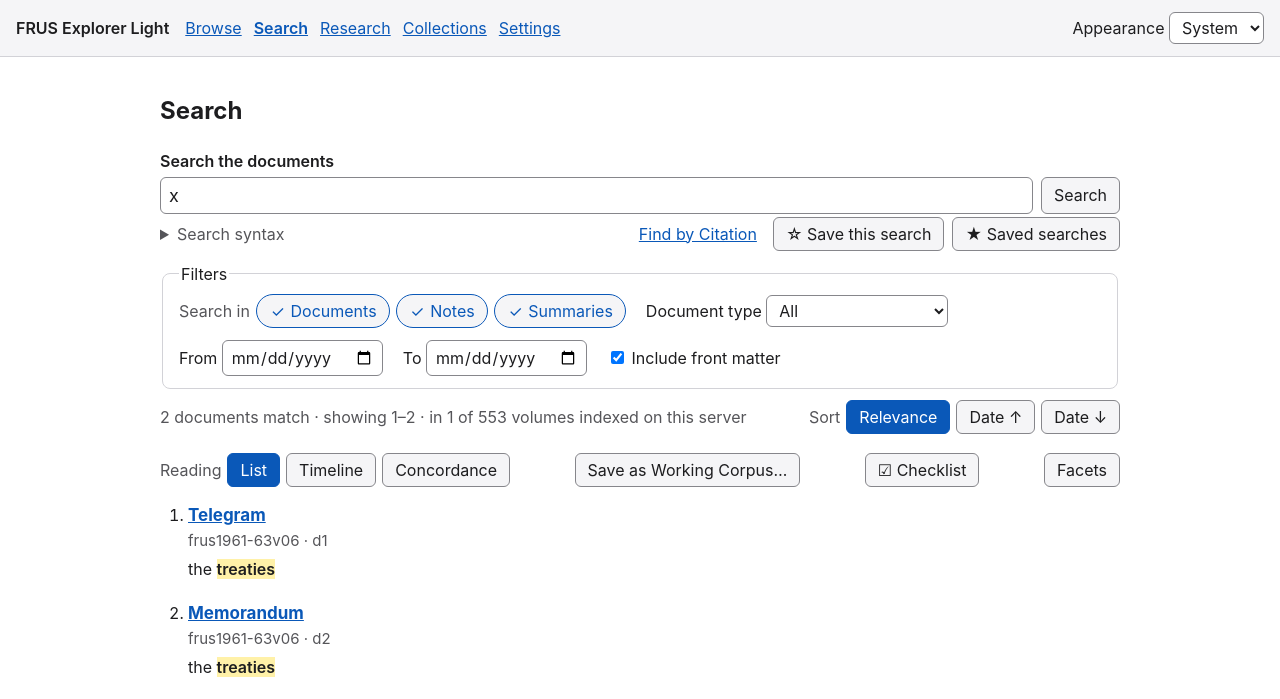
saved searches in Search › renames a saved search as given, and deletes one, from its row
Click the button "★ Saved searches" at (1036,234), box x1=952 y1=217 x2=1120 y2=251
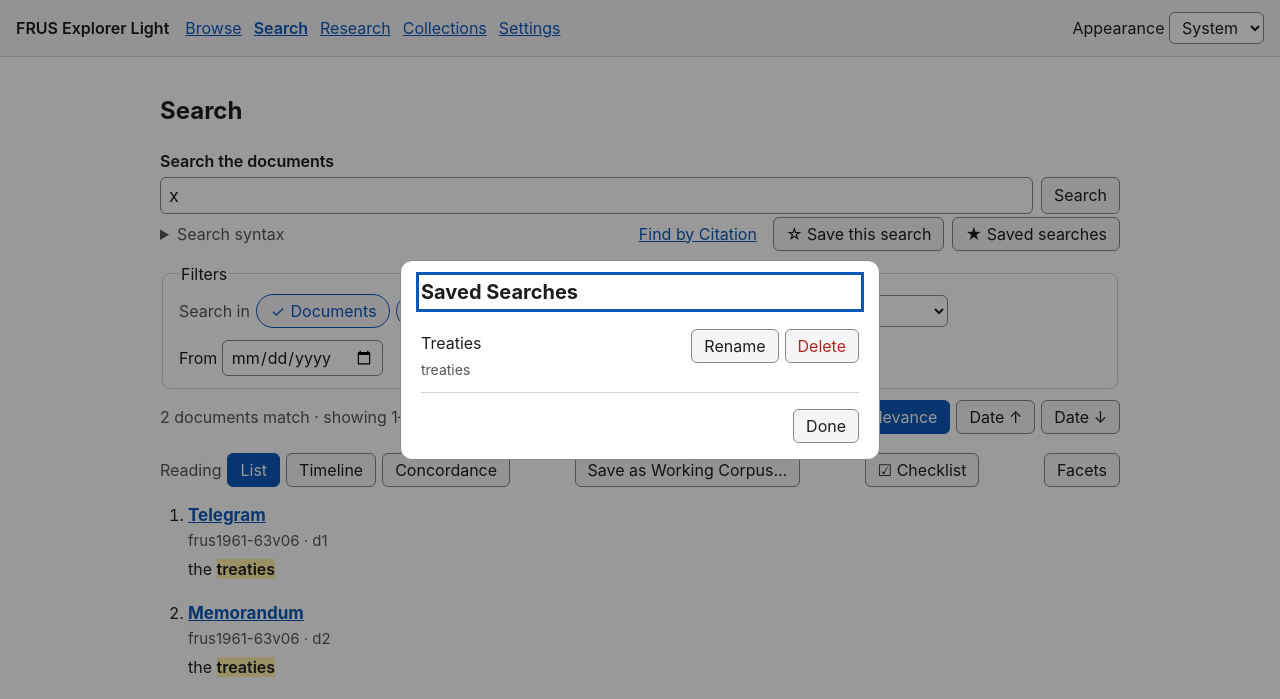
Click the button with aria-label "Rename Treaties" at (735,346), box x1=691 y1=329 x2=778 y2=363
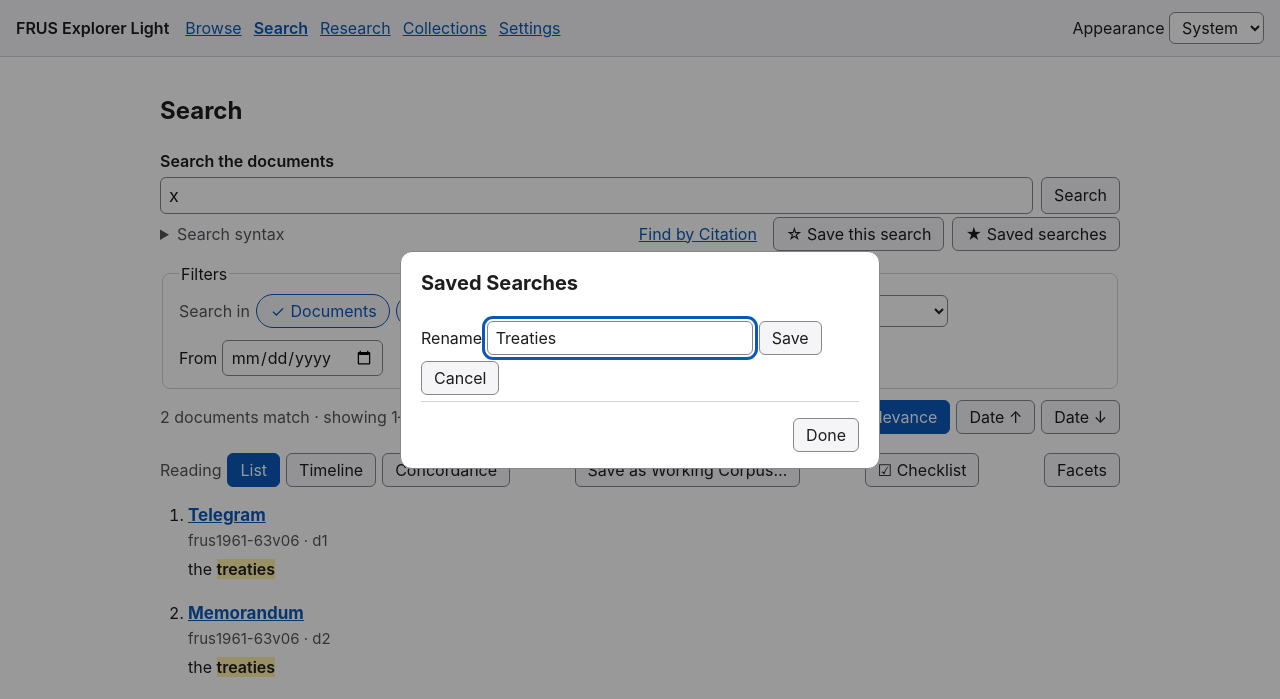
Replace the text in the field labelled "Rename" with " Talks " at (620,338), box x1=487 y1=321 x2=753 y2=355
Then press Enter
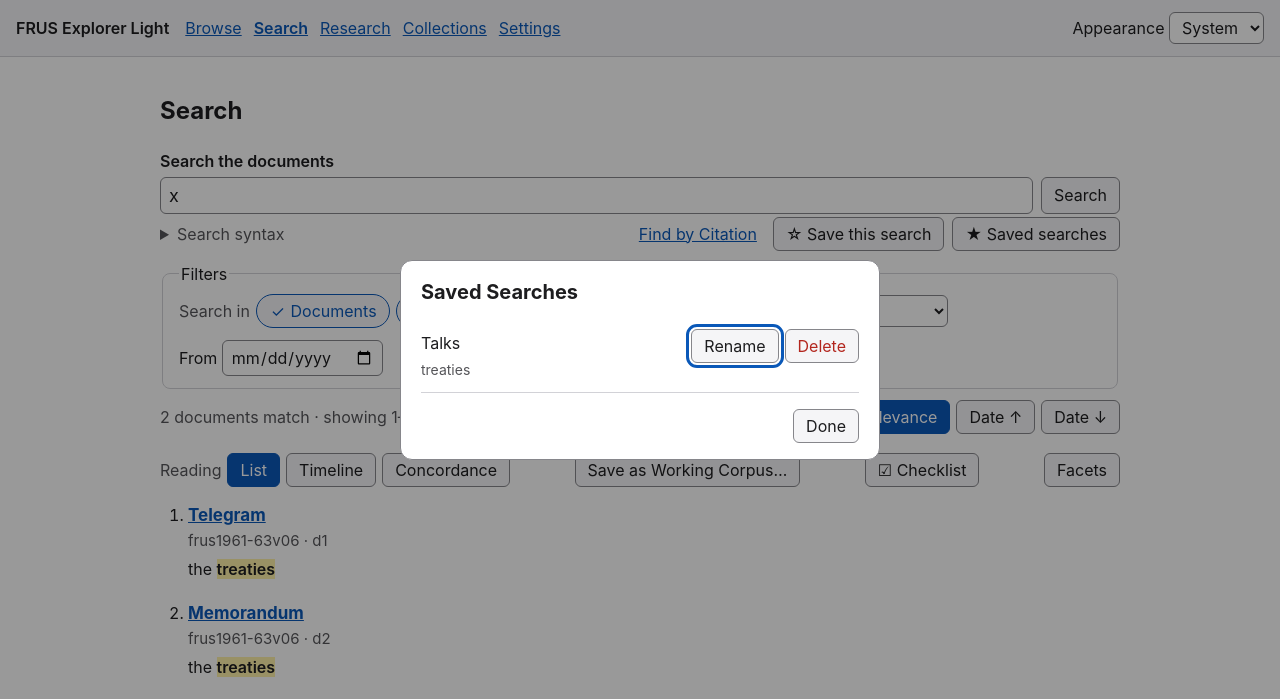
Expected: the button "Talks treaties" is shown, x1=421 y1=329 x2=683 y2=386
Click the button with aria-label "Delete Talks" at (822,346), box x1=784 y1=329 x2=859 y2=363
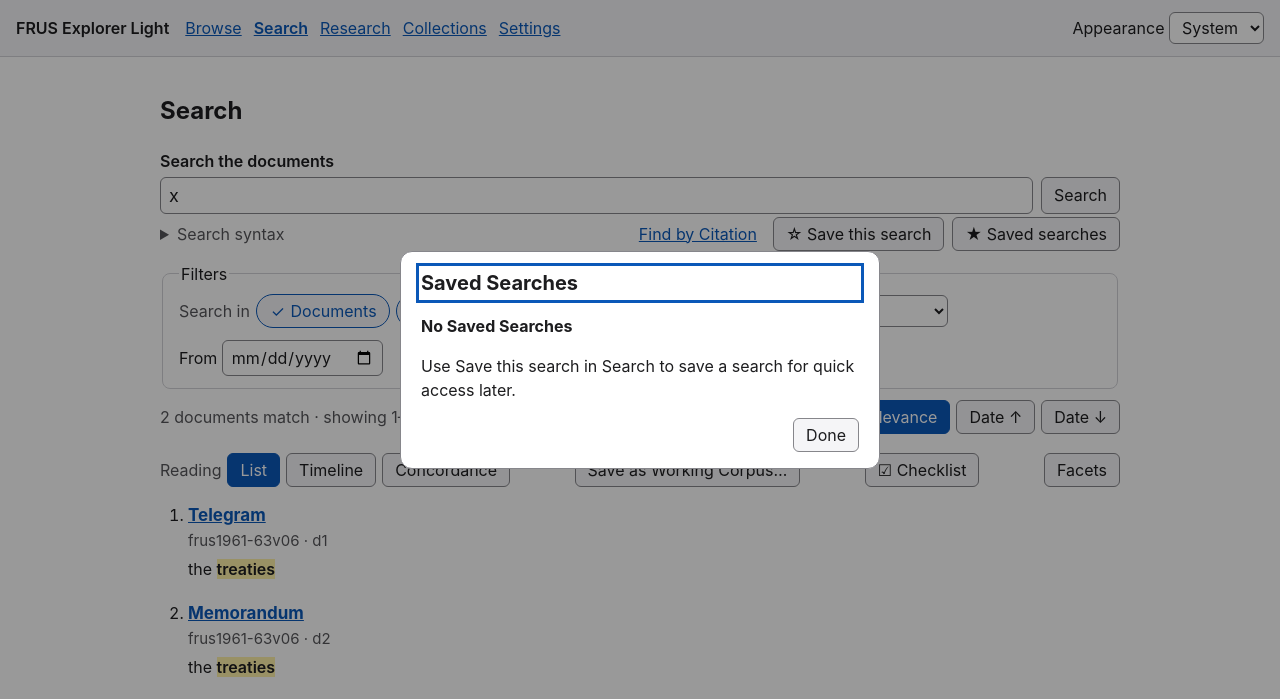
Expected: the heading "No Saved Searches" is shown, x1=421 y1=316 x2=572 y2=336
Expected: the text "Use Save this search in Search to save a search for quick access later." is shown, x1=421 y1=354 x2=859 y2=402
